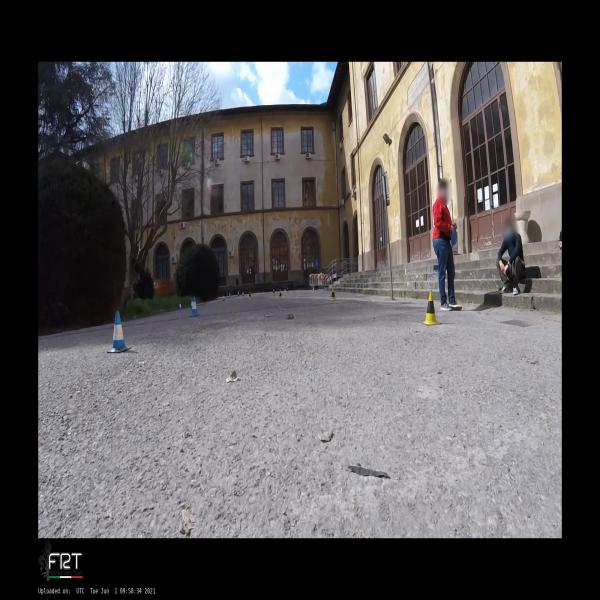blue_cone: (106, 310, 132, 353), (190, 296, 200, 317), (190, 298, 193, 311), (179, 302, 182, 310), (223, 295, 225, 301), (242, 291, 244, 297), (229, 292, 231, 297), (238, 292, 240, 296)
yellow_cone: (421, 290, 441, 326), (330, 288, 337, 301), (278, 290, 283, 300), (248, 291, 252, 299), (272, 289, 275, 296), (286, 288, 289, 294), (284, 286, 286, 292)
